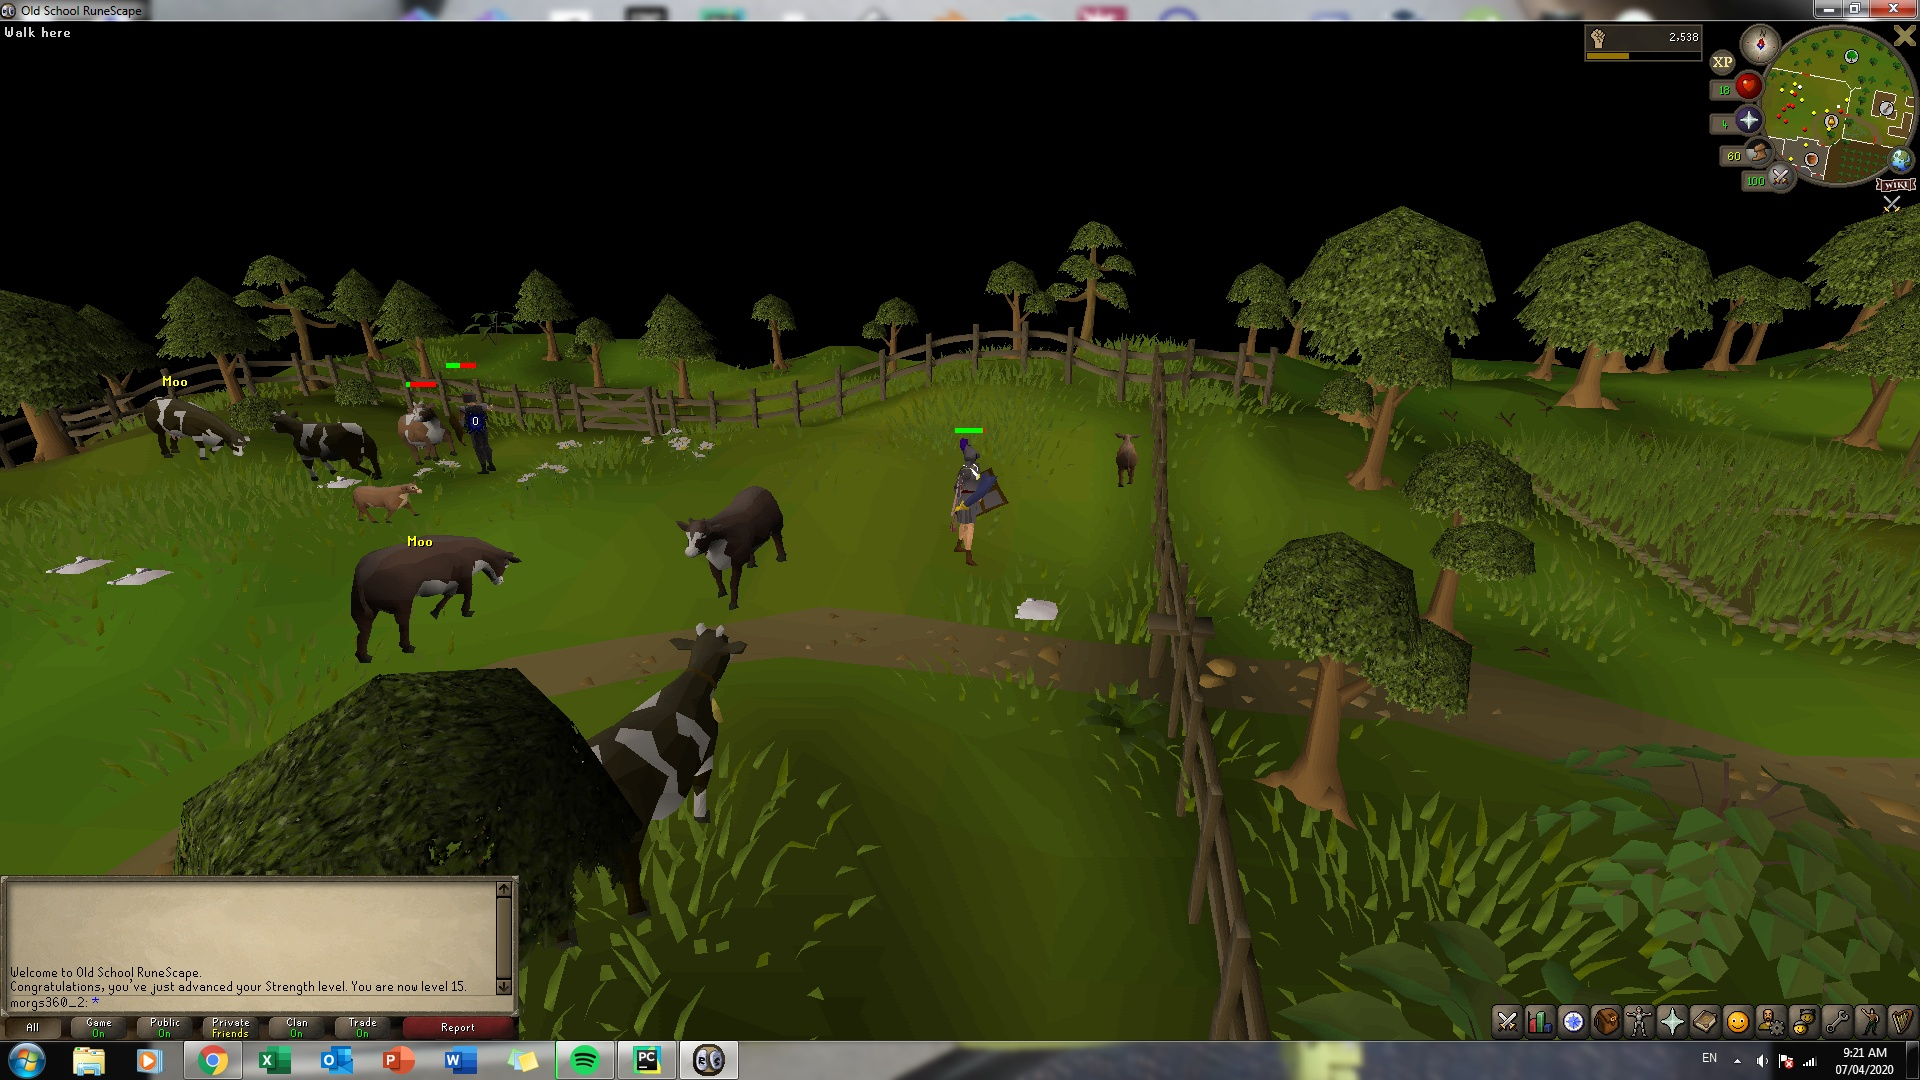cow: (351, 535, 524, 666), (674, 485, 795, 611), (274, 409, 385, 485), (138, 392, 253, 464), (349, 484, 429, 525), (1106, 430, 1146, 491)
cowhide: (107, 562, 173, 591), (46, 551, 111, 579), (1014, 591, 1062, 624)
